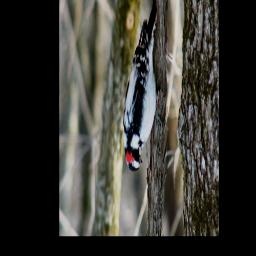Woodpecker: (121, 0, 162, 171)
